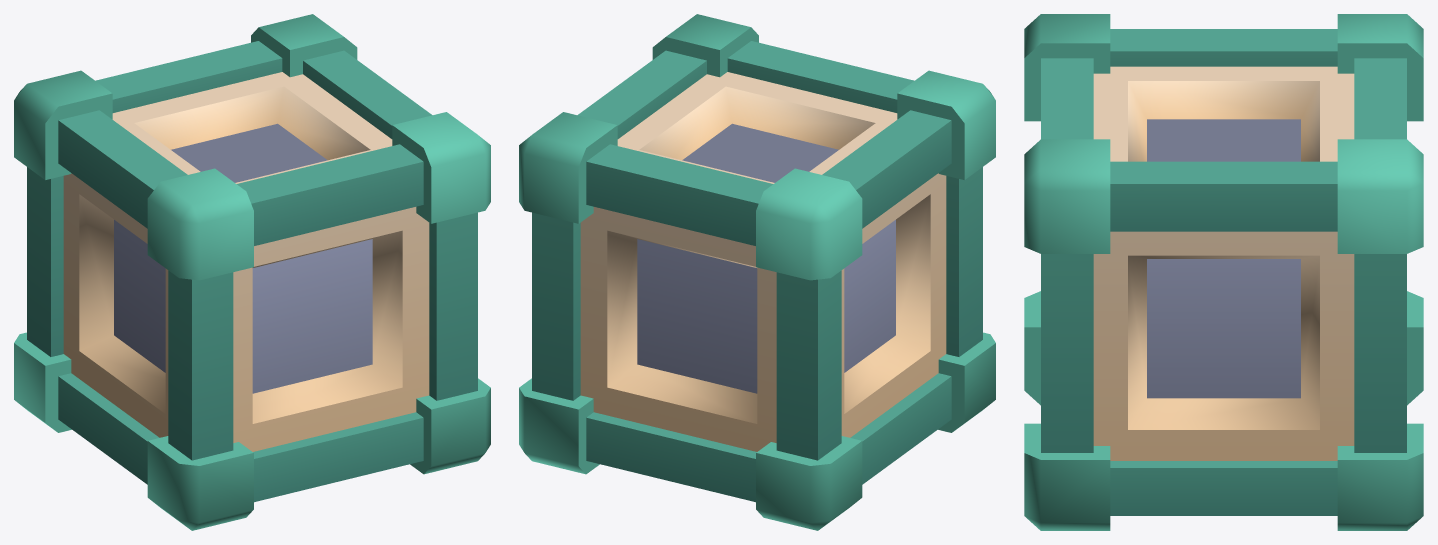
The model's file is crate-item-strong.glb.
The picture shows the model from 3 angles, left to right: view 1: azimuth 30°, elevation 25°; view 2: azimuth 150°, elevation 25°; view 3: azimuth 270°, elevation 25°; orthographic projection. The views are drawn at different scales.
Visible parts, largest first — view 1: crate-item-strong; view 2: crate-item-strong; view 3: crate-item-strong.
Boxes of the visible parts, box(x1,y1,x2,y2) form: crate-item-strong: box(14, 14, 490, 530); crate-item-strong: box(519, 14, 995, 530); crate-item-strong: box(1024, 14, 1423, 530).
Bounding box in the file's own units: 0.6 × 0.6 × 0.6.
